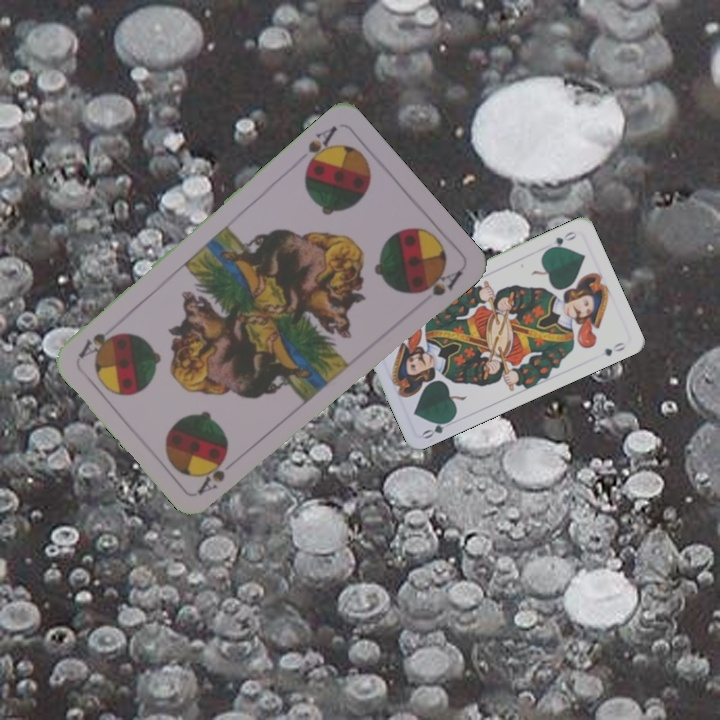GO: (418, 414, 456, 442), (543, 227, 580, 253)
SA: (300, 121, 340, 174), (194, 456, 229, 496)
